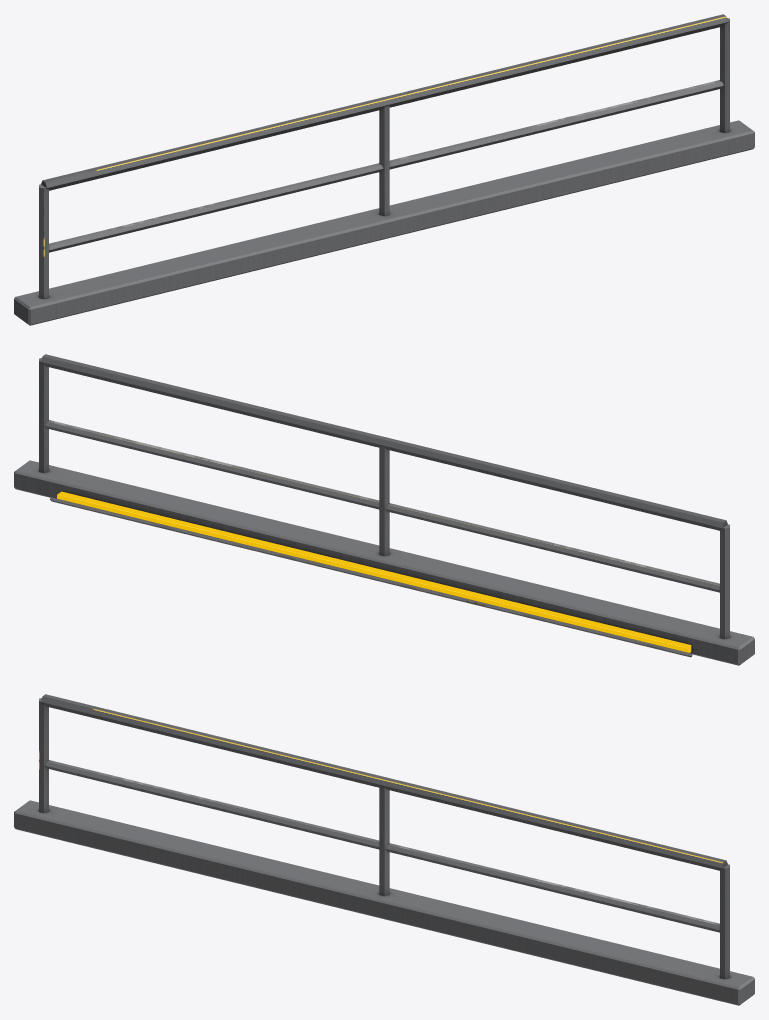
The model's file is nodexeus-set-edge-rail-lit.glb.
The picture shows the model from 3 angles, top to bottom: view 1: azimuth 30°, elevation 25°; view 2: azimuth 150°, elevation 25°; view 3: azimuth 330°, elevation 25°; orthographic projection.
Visible parts, largest first — view 1: set-edge-rail-lit; view 2: set-edge-rail-lit; view 3: set-edge-rail-lit.
Boxes of the visible parts, x1,y1,x2,y2 form: set-edge-rail-lit: [14, 14, 754, 325]; set-edge-rail-lit: [14, 354, 754, 665]; set-edge-rail-lit: [14, 694, 754, 1005].
Size of the model in its own units: 5.7 by 1 by 0.305.
1 material, 1 textured.
